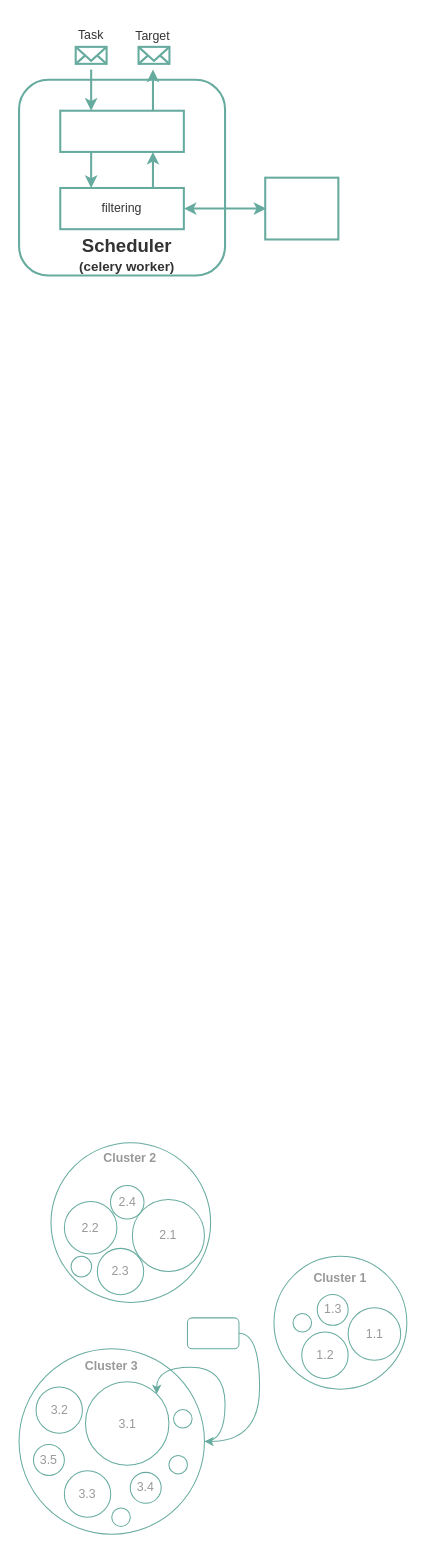
This 424x1552 diagram has some shape labels left out. Here are the shapes that lost their labels. From the top down, the centre of each, then its label:
At (121,130): "scheduling".
At (301,208): "Resource Abstractor".
At (212,1333): "Job".
